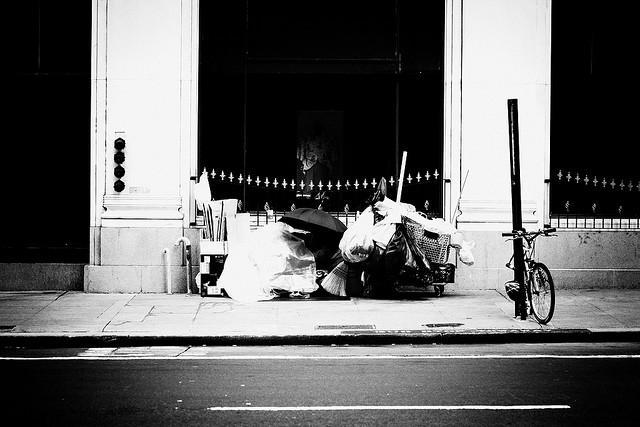bicycle: (503, 224, 558, 320)
